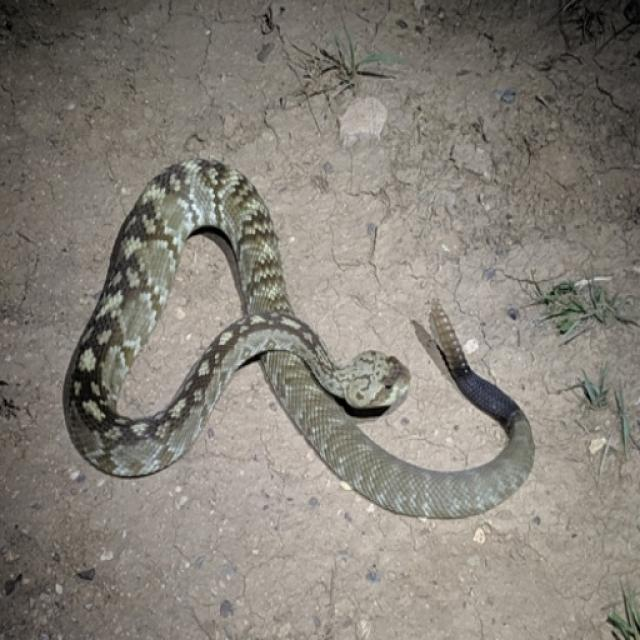snake: (54, 139, 548, 535)
